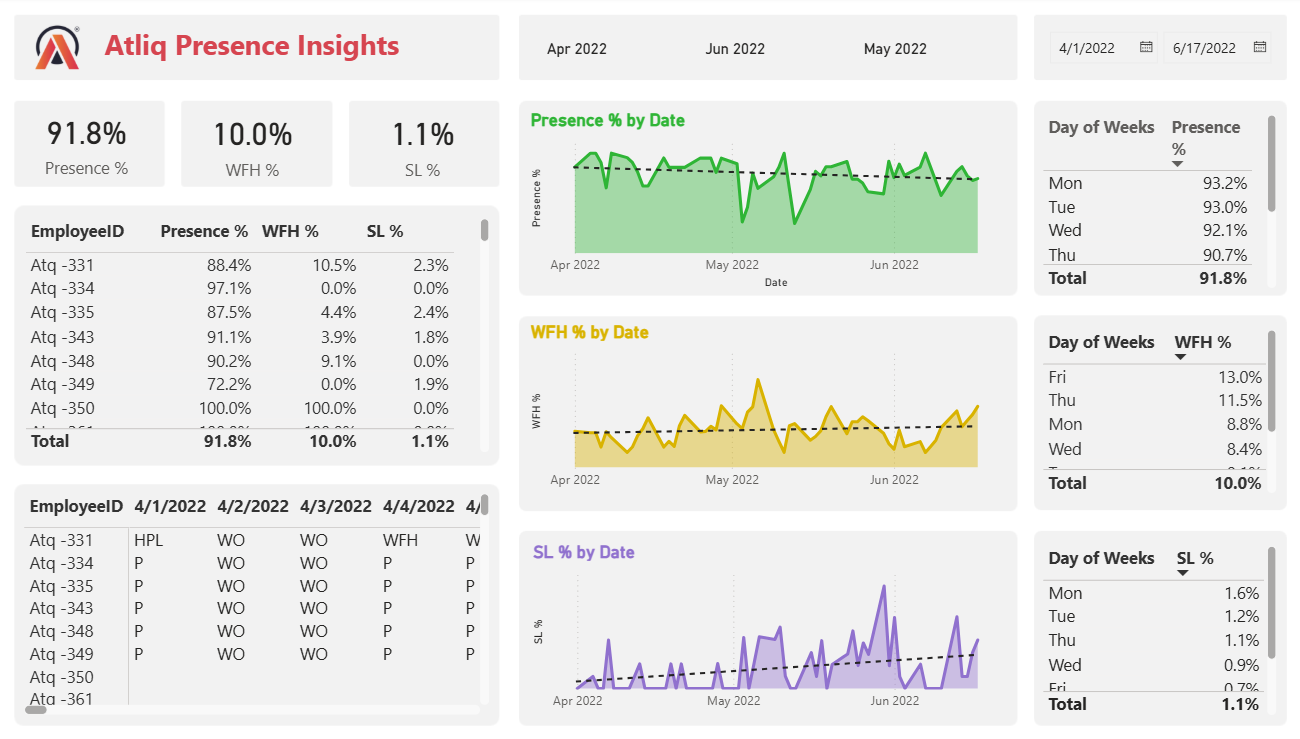

Layout of this report page (visuals, bound fields, positions):
{"tool":"powerbi","page":{"name":"Page 1","canvas":[1280,720],"ordinal":0},"visuals":[{"type":"card","fields":{"Values":["_measures.Present %"]},"box":[32.9,98.8,124.9,83.7],"z":0},{"type":"advancedSlicerVisual","fields":{"Values":["Final Data.Month"]},"box":[521.2,24.1,463.3,49.5],"z":1000},{"type":"card","fields":{"Values":["_measures.WFH %"]},"box":[190.7,100.2,129,83.7],"z":2000},{"type":"card","fields":{"Values":["_measures.SL %"]},"box":[347.2,100.2,144.1,83.7],"z":3000},{"type":"tableEx","fields":{"Values":["Final Data.Employee Code","_measures.Present %","_measures.WFH %","_measures.SL %"]},"box":[30.2,209.9,458.4,235.3],"z":4000},{"type":"pivotTable","fields":{"Values":["Min(Final Data.Value)"],"Columns":["Final Data.Date"],"Rows":["Final Data.Employee Code"]},"box":[30.2,475.3,458.4,223.2],"z":5000},{"type":"tableEx","fields":{"Values":["Final Data.Day of Weeks","_measures.Present %"]},"box":[1012.7,109.8,236,177],"z":6000},{"type":"tableEx","fields":{"Values":["Final Data.Day of Weeks","_measures.WFH %"]},"box":[1012.7,317,236,167.4],"z":7000},{"type":"tableEx","fields":{"Values":["Final Data.Day of Weeks","_measures.SL %"]},"box":[1012.7,525.6,236,172.9],"z":8000},{"type":"textbox","box":[67.6,22.9,411.4,54.3],"z":9000},{"type":"areaChart","fields":{"Category":["Final Data.Date"],"Y":["_measures.Present %"]},"box":[518.8,109.8,465.7,177.3],"z":10000},{"type":"areaChart","fields":{"Category":["Final Data.Date"],"Y":["_measures.WFH %"]},"box":[518.8,313.7,465.7,171.3],"z":11000},{"type":"areaChart","fields":{"Category":["Final Data.Date"],"Y":["_measures.SL %"]},"box":[521.2,526,463.3,172.5],"z":12000},{"type":"slicer","fields":{"Values":["Final Data.Date"]},"box":[1012.2,24.1,236.5,50.7],"z":13000},{"type":"image","box":[32.6,22.9,70,53.1],"z":14000}]}

Visuals, with their boxes in screenshot pixels (x1, y1, x2, y2), scaled from the page's 1280x720 canvas onto the 1300x739 screenshot:
card - _measures.Present %: bbox=[33, 101, 160, 187]
advancedSlicerVisual - Final Data.Month: bbox=[529, 25, 1000, 76]
card - _measures.WFH %: bbox=[194, 103, 325, 189]
card - _measures.SL %: bbox=[353, 103, 499, 189]
tableEx - Final Data.Employee Code x _measures.Present %: bbox=[31, 215, 496, 457]
pivotTable - Min(Final Data.Value) x Final Data.Date: bbox=[31, 488, 496, 717]
tableEx - Final Data.Day of Weeks x _measures.Present %: bbox=[1029, 113, 1268, 294]
tableEx - Final Data.Day of Weeks x _measures.WFH %: bbox=[1029, 325, 1268, 497]
tableEx - Final Data.Day of Weeks x _measures.SL %: bbox=[1029, 539, 1268, 717]
textbox: bbox=[69, 24, 486, 79]
areaChart - Final Data.Date x _measures.Present %: bbox=[527, 113, 1000, 295]
areaChart - Final Data.Date x _measures.WFH %: bbox=[527, 322, 1000, 498]
areaChart - Final Data.Date x _measures.SL %: bbox=[529, 540, 1000, 717]
slicer - Final Data.Date: bbox=[1028, 25, 1268, 77]
image: bbox=[33, 24, 104, 78]
